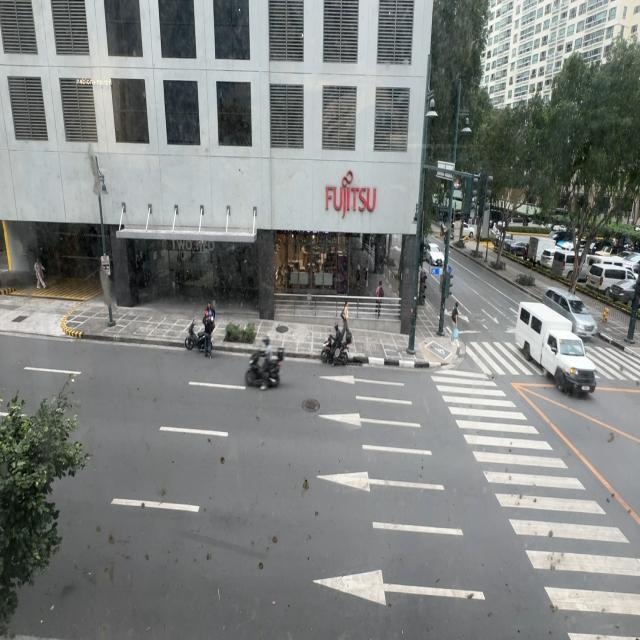pedestrain: (340, 301, 352, 351)
waiting: (451, 298, 460, 347)
